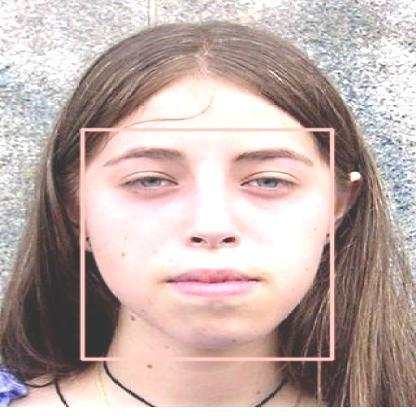without_mask: (82, 129, 331, 359)
